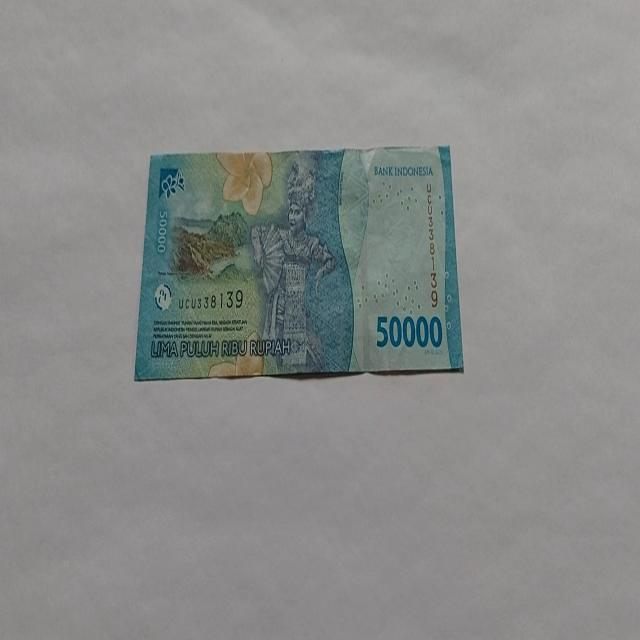lima puluh ribu rupiah: (133, 144, 464, 382)
